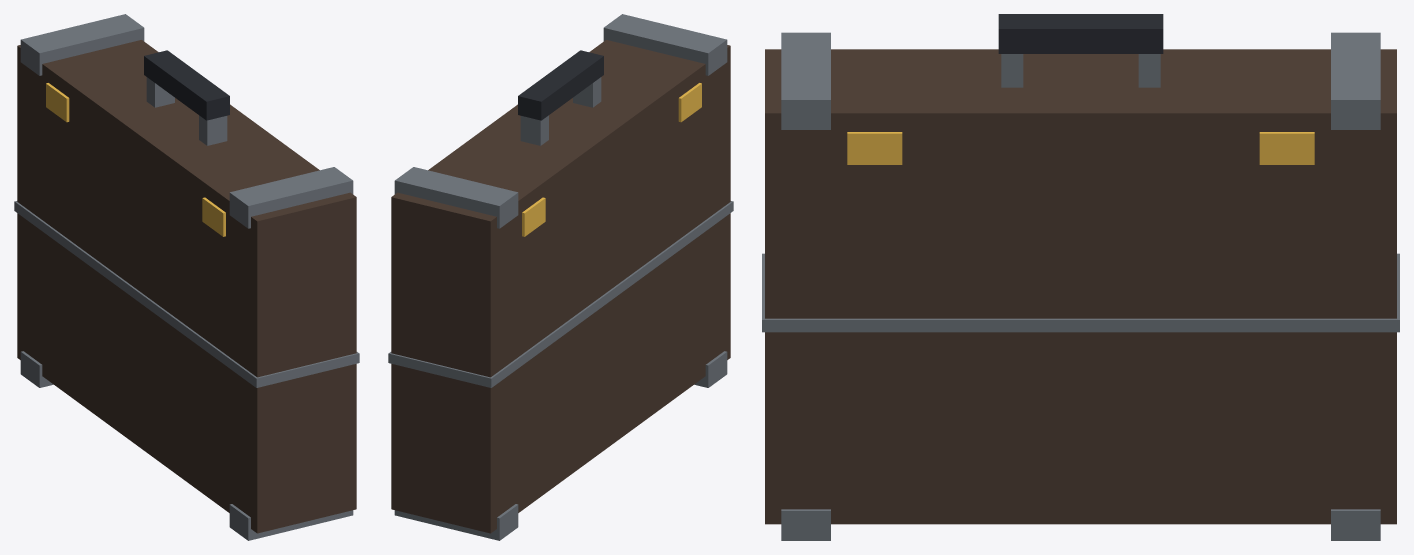
Rendered from briefcase.glb.
3 renders of one model, left to right at view 1: azimuth 30°, elevation 25°; view 2: azimuth 150°, elevation 25°; view 3: azimuth 270°, elevation 25°, orthographic. The views are drawn at different scales.
Visible parts, largest first — view 1: briefcase_mesh; view 2: briefcase_mesh; view 3: briefcase_mesh.
Boxes of the visible parts, <box> form: briefcase_mesh: <box>14,14,359,540</box>; briefcase_mesh: <box>388,14,733,540</box>; briefcase_mesh: <box>762,14,1399,540</box>.
Size of the model in its own units: 0.116 by 0.39 by 0.464.
1 material, 1 textured.
